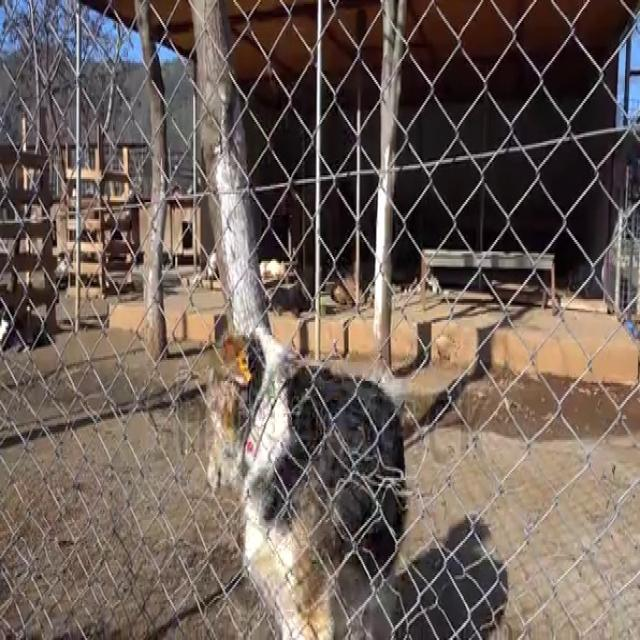injured-animals: (208, 322, 510, 634)
